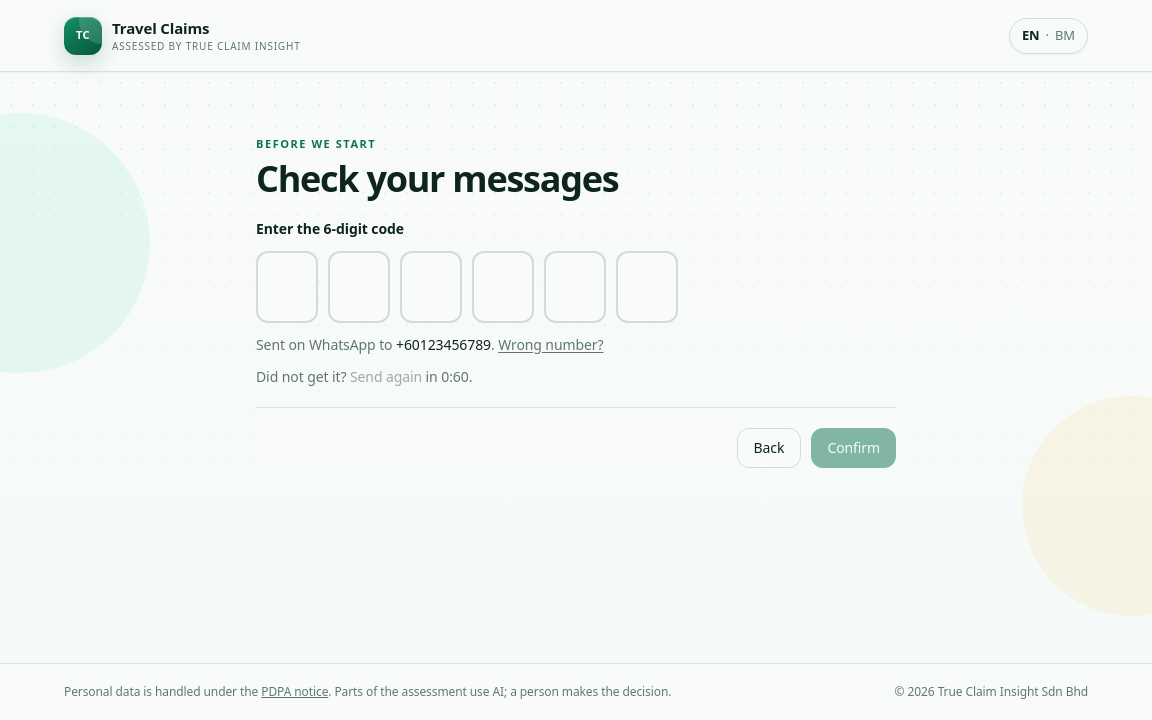
Back on the code screen › stays on the number screen while the server has not taken the new number
The width and height of the screenshot is (1152, 720).
Expected: the heading "Check your messages" is shown, [256, 154, 618, 202]
Click the button "Back".
click(769, 448)  # box [737, 428, 801, 468]
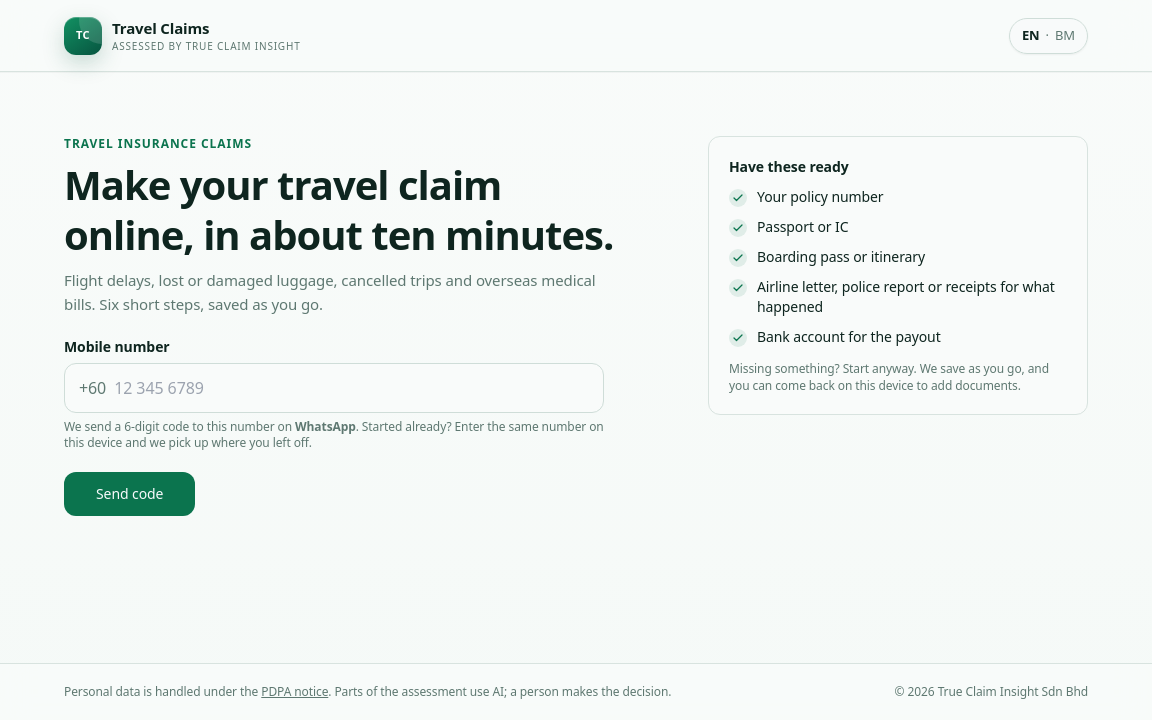
Type "129998888" into the field labelled "Mobile number".
click(352, 388); type("129998888")  # box [114, 364, 589, 412]
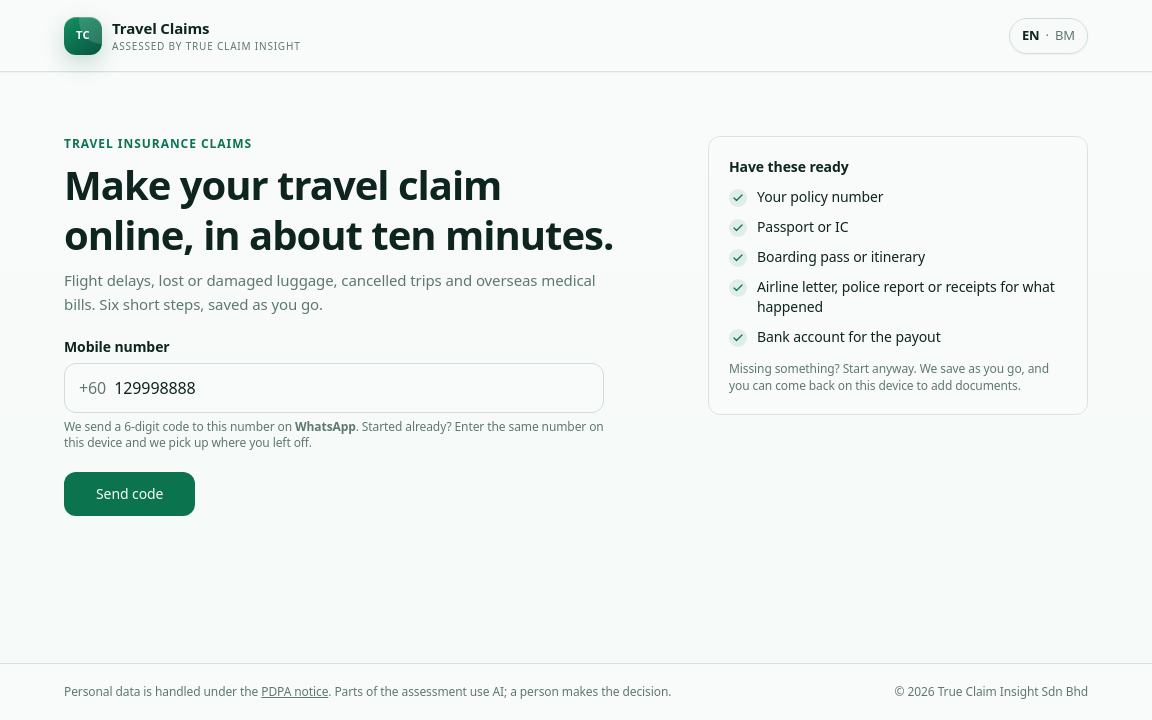
Click the button "Send code".
click(130, 494)  # box [64, 472, 195, 516]
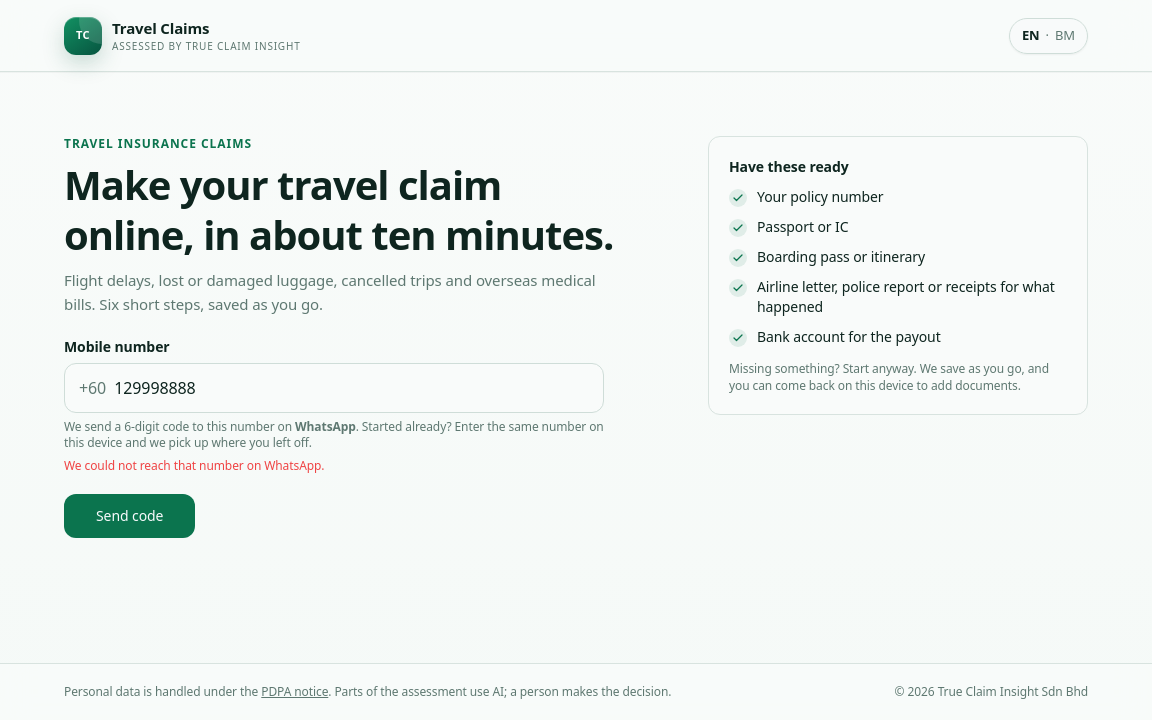
Expected: the heading "Check your messages" is not shown
Expected: the text "We could not reach that number on WhatsApp." is shown, [64, 457, 324, 474]
